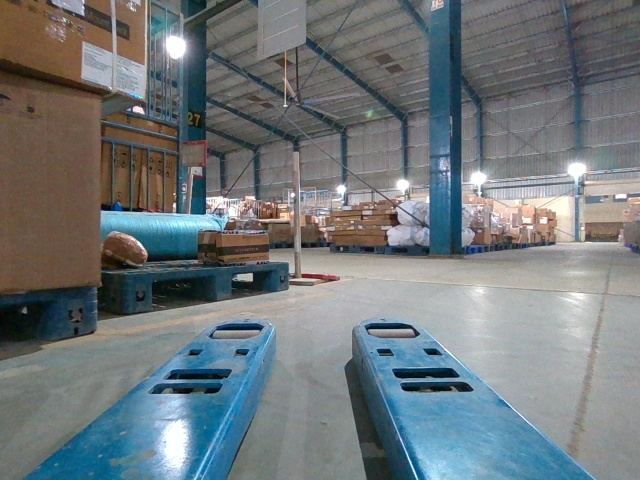pallet: (123, 260, 291, 316)
